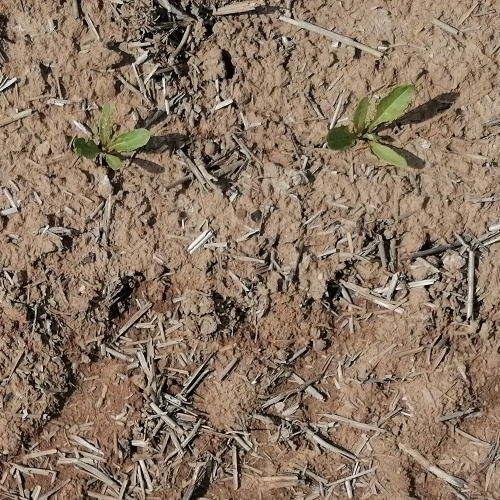beet: (324, 83, 417, 169), (72, 102, 151, 173)
